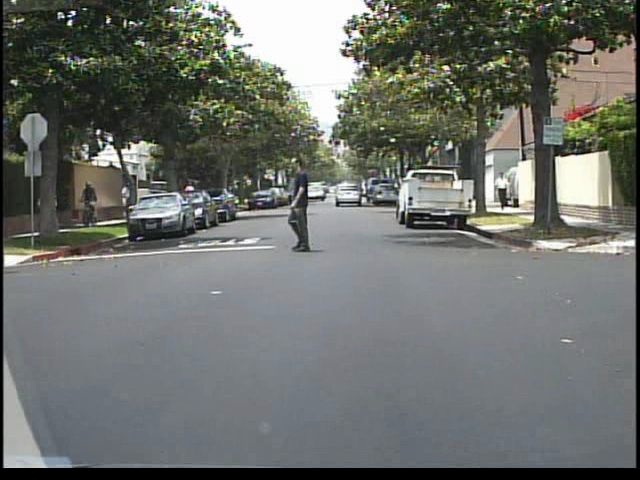person: (271, 155, 331, 257), (39, 178, 65, 235), (492, 169, 513, 213), (182, 177, 200, 215), (80, 177, 102, 204)
